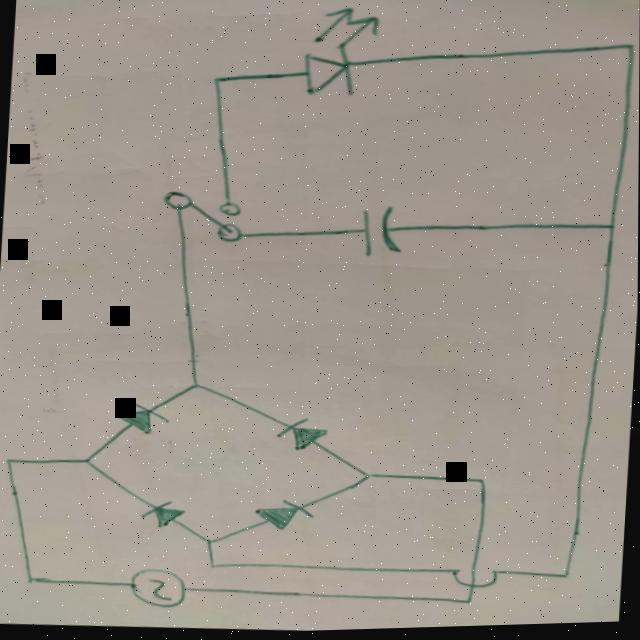capacitor: (355, 205, 404, 263)
crossover: (449, 568, 500, 593)
diode: (300, 5, 379, 101), (113, 399, 171, 436), (255, 499, 315, 533), (277, 418, 327, 453), (140, 499, 187, 530)
junction: (206, 73, 232, 89), (618, 42, 640, 58), (601, 222, 624, 237), (80, 454, 98, 467), (24, 573, 41, 586), (557, 573, 573, 584), (2, 455, 17, 466), (208, 561, 223, 572), (362, 472, 377, 483), (203, 537, 219, 547), (189, 382, 205, 392), (474, 478, 490, 488), (462, 599, 476, 609)
source: (128, 566, 188, 610)
switch: (158, 190, 246, 245)
